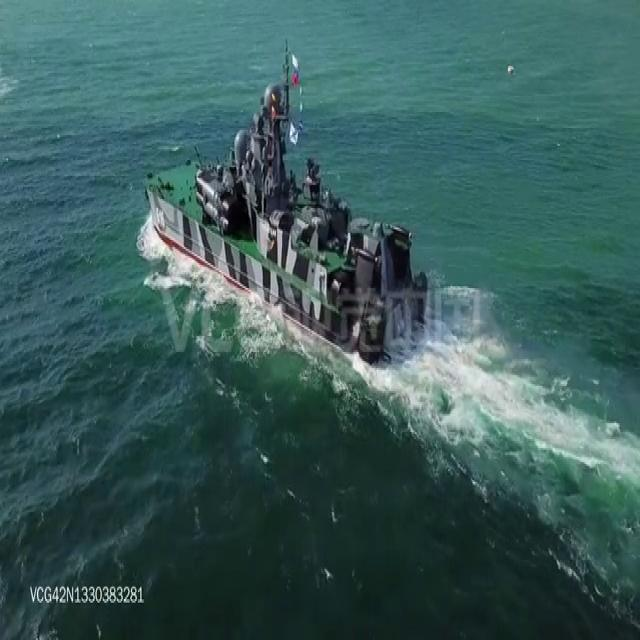houseboat: (140, 75, 434, 360)
